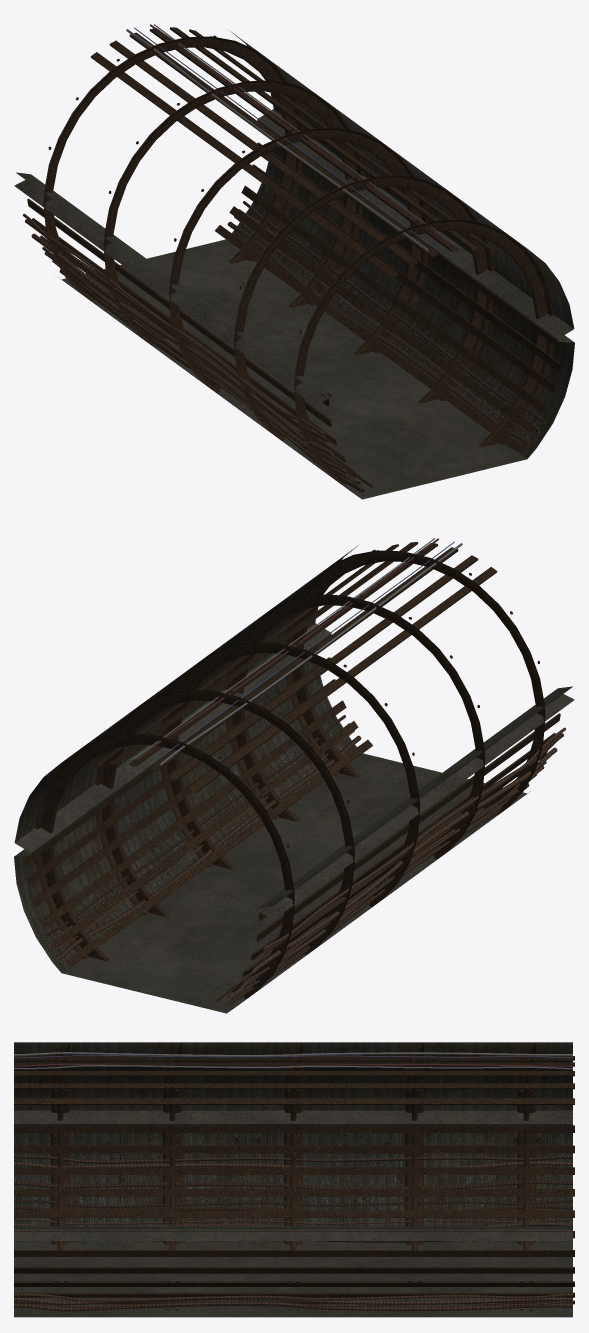
Rendered from tunnel_1.glb.
3 renders of one model, top to bottom at view 1: azimuth 30°, elevation 25°; view 2: azimuth 150°, elevation 25°; view 3: azimuth 270°, elevation 25°, orthographic. The views are drawn at different scales.
Parts seen in each view (by area): view 1: tunnel_1; view 2: tunnel_1; view 3: tunnel_1.
Part boxes in pixels (x1,y1,x2,y2): tunnel_1: (14,24,574,499); tunnel_1: (14,538,574,1013); tunnel_1: (14,1042,574,1317).
Size of the model in its own units: 3 by 2.69 by 6.02.
7 materials, 7 textured.
